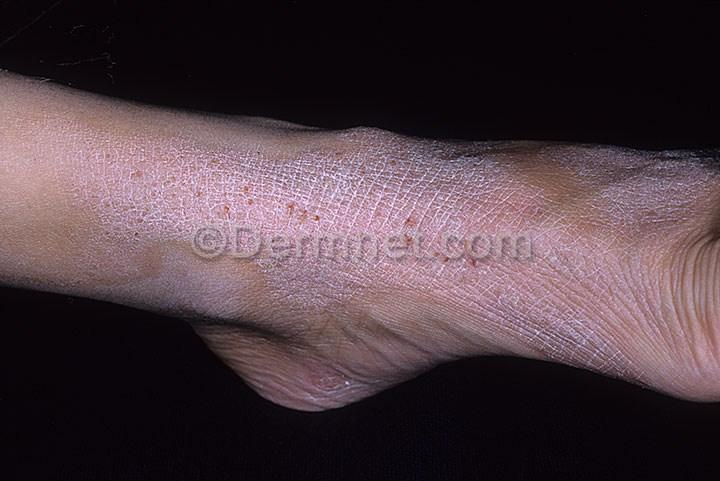Eczema: (65, 127, 250, 253), (256, 149, 432, 231), (575, 146, 710, 231), (387, 258, 541, 314), (246, 255, 380, 313), (449, 156, 551, 229), (299, 353, 364, 399)
